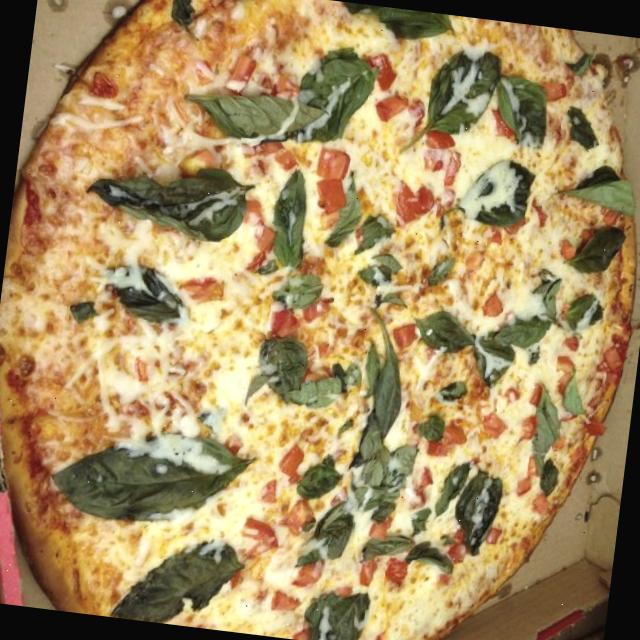basil: (47, 417, 261, 533), (80, 145, 260, 247), (344, 318, 428, 527), (108, 522, 250, 632), (248, 332, 368, 418), (438, 148, 542, 242), (184, 81, 327, 148), (293, 43, 375, 152), (424, 41, 506, 143), (100, 252, 192, 330), (257, 164, 314, 280), (470, 304, 550, 386), (322, 174, 396, 258), (554, 153, 640, 222), (354, 513, 454, 572), (490, 70, 558, 154), (525, 268, 608, 336), (336, 0, 450, 44), (295, 496, 356, 574), (300, 581, 375, 640), (562, 218, 630, 278), (527, 380, 564, 476), (270, 263, 328, 319), (558, 96, 611, 152), (411, 308, 471, 355), (295, 448, 344, 502), (556, 366, 596, 424), (356, 248, 404, 292), (374, 278, 412, 314), (410, 410, 449, 443), (169, 0, 204, 32), (68, 294, 101, 324), (221, 0, 264, 4)
pizza: (0, 0, 634, 640)
tomato: (308, 146, 356, 214), (274, 417, 318, 483), (417, 125, 467, 182), (390, 180, 438, 232), (237, 136, 299, 176), (266, 304, 328, 344), (226, 33, 264, 90), (174, 270, 227, 310), (239, 514, 283, 558), (368, 46, 406, 96), (441, 408, 474, 456), (371, 90, 414, 124), (382, 552, 411, 595), (296, 560, 328, 592), (554, 354, 580, 392), (479, 408, 508, 441), (270, 586, 299, 616), (482, 284, 506, 319), (260, 474, 282, 506)
